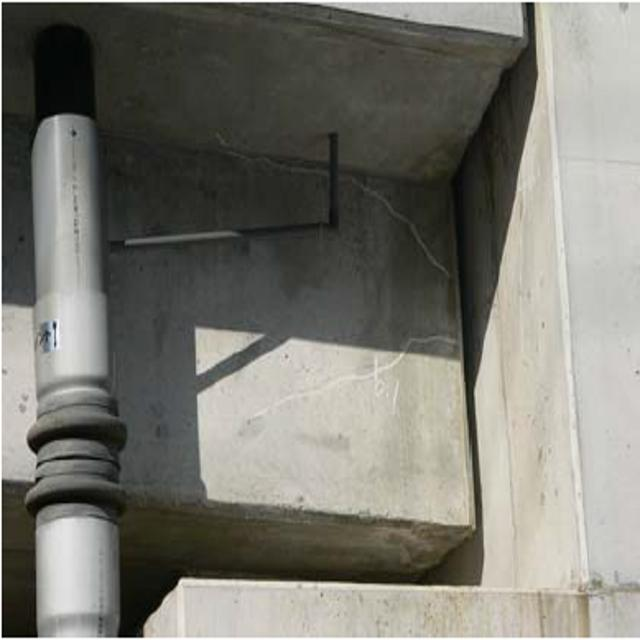crack: (232, 143, 462, 290), (234, 317, 462, 429)
